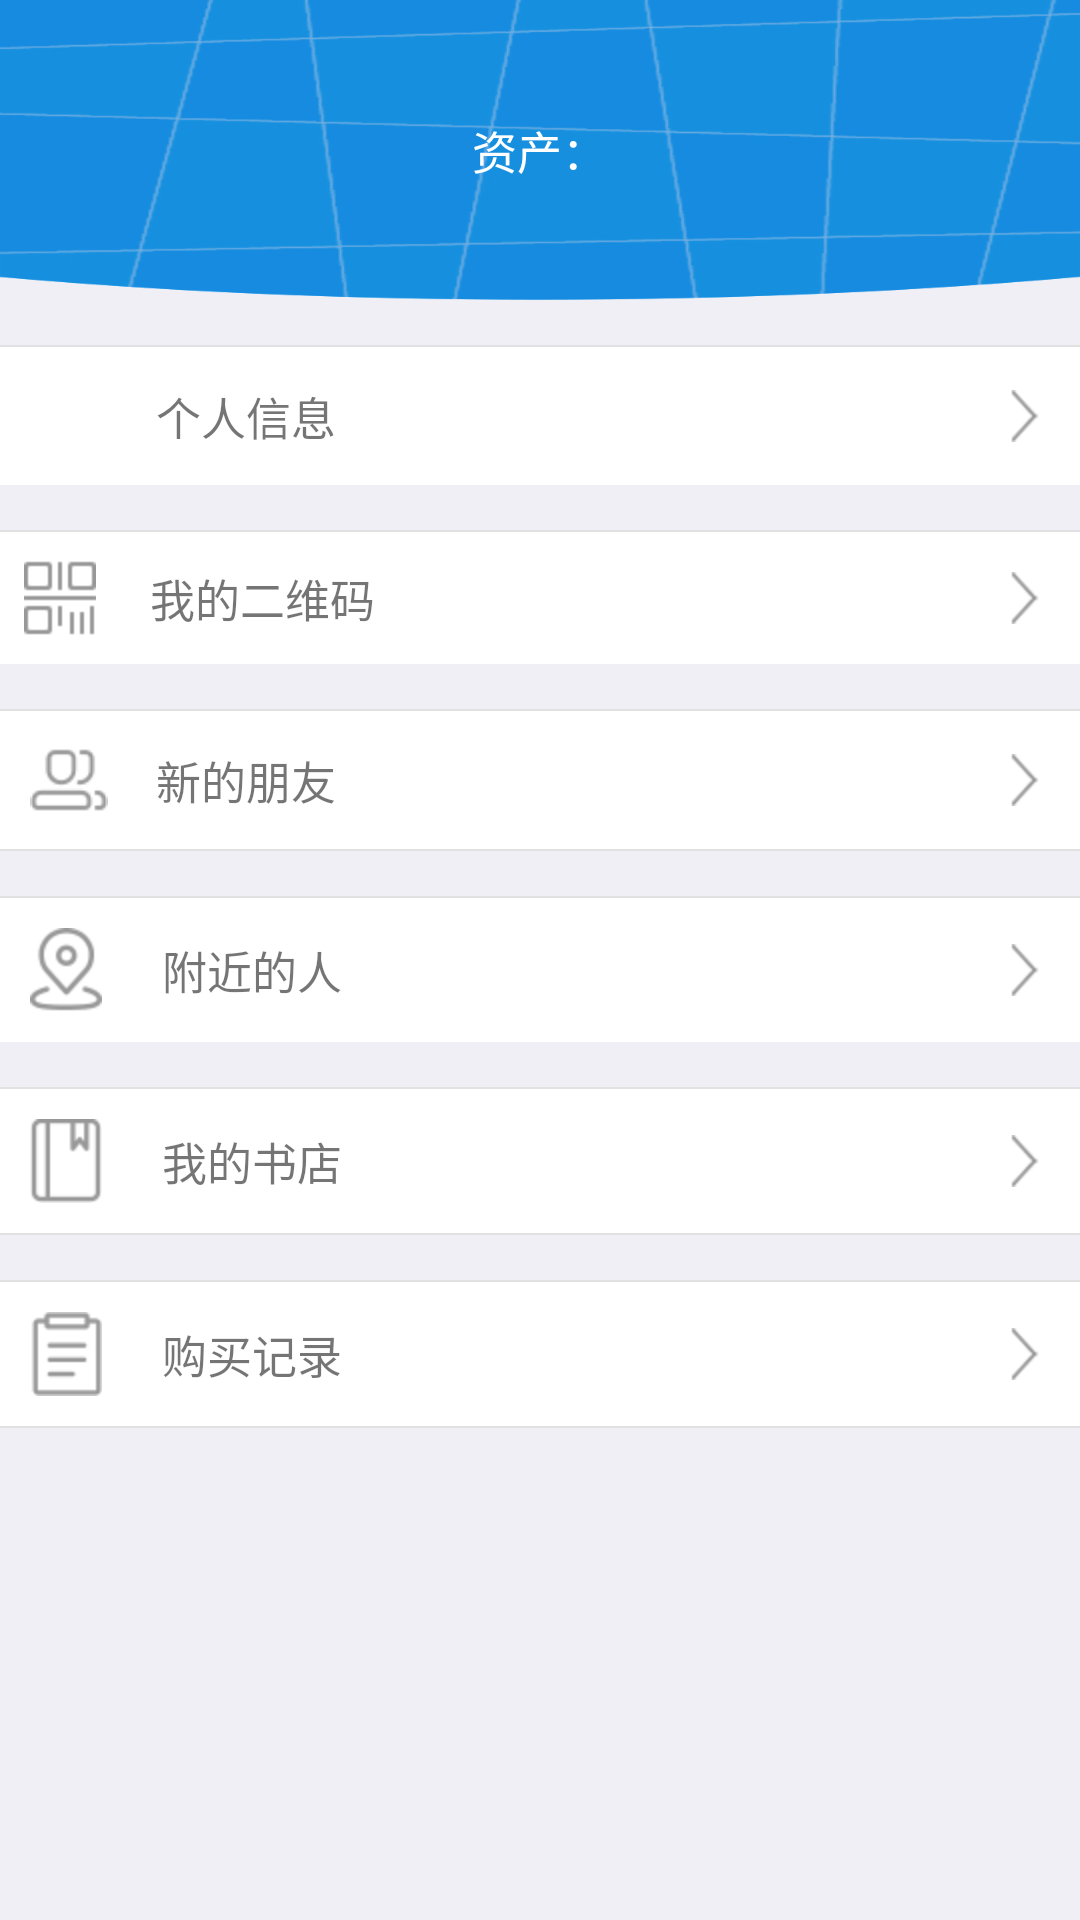

Point at icon controls on the screen. Image size 1080px×1920px, points as [x,y].
record: [67,1354]
right jt: [1025,416], [1025,598], [1025,780], [1025,970], [1025,1161], [1025,1354]
